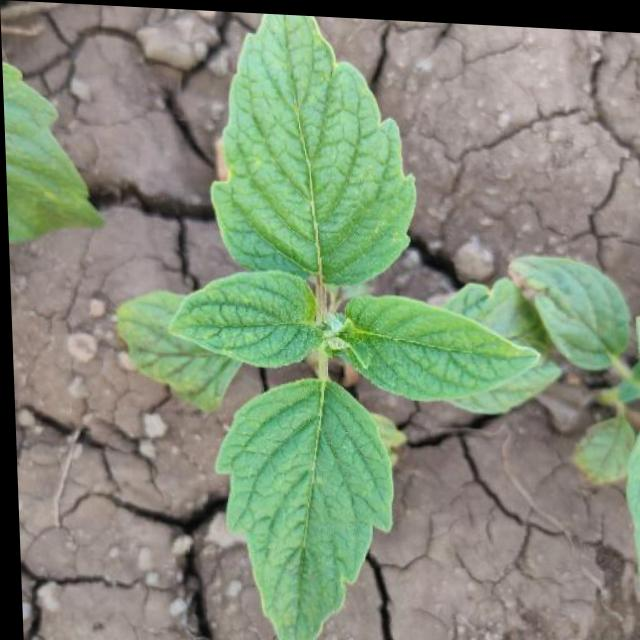crop: (98, 9, 569, 640)
